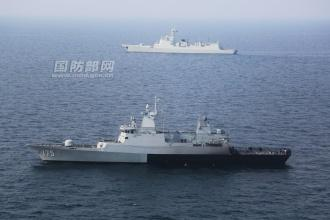warship: (28, 106, 297, 162), (121, 31, 238, 54)
